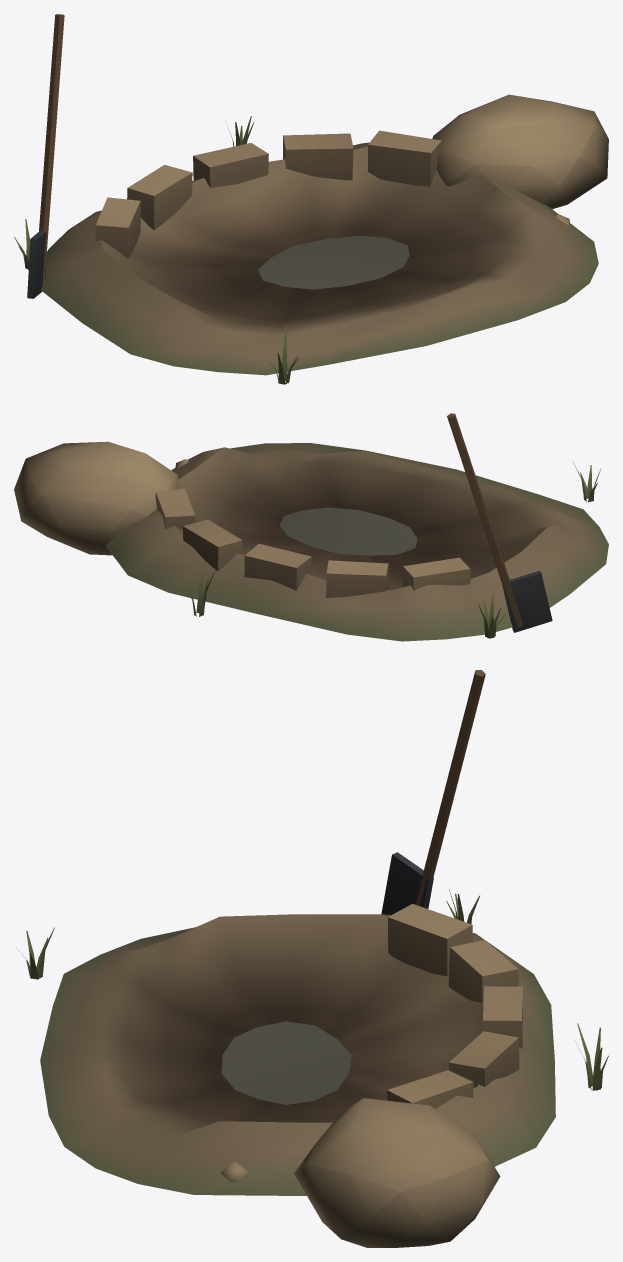
Rendered from ph_env_clay_pit.glb.
The picture shows the model from 3 angles, top to bottom: view 1: azimuth 30°, elevation 25°; view 2: azimuth 150°, elevation 25°; view 3: azimuth 270°, elevation 25°; orthographic projection. The views are drawn at different scales.
Visible parts, largest first — view 1: ph_env_clay_pit; view 2: ph_env_clay_pit; view 3: ph_env_clay_pit.
Part boxes in pixels (left/top/right/bottom): ph_env_clay_pit: left=14, top=14, right=608, bottom=384; ph_env_clay_pit: left=14, top=413, right=608, bottom=641; ph_env_clay_pit: left=16, top=670, right=608, bottom=1247.
Size of the model in its own units: 2.39 by 1.09 by 1.81.
